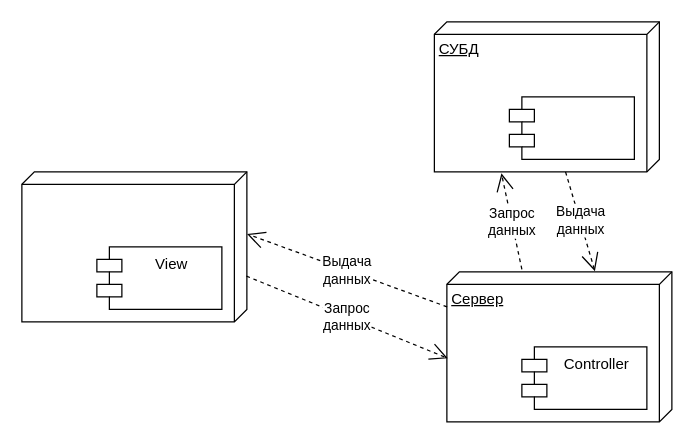
The diagram is 694 pixels wide and 444 high, and some of its shapes have lost their labels. Here are the shapes that lost their labels. From the top down, the box of each, then its label:
(508, 96, 634, 159): Model
(21, 171, 247, 322): Клиент
